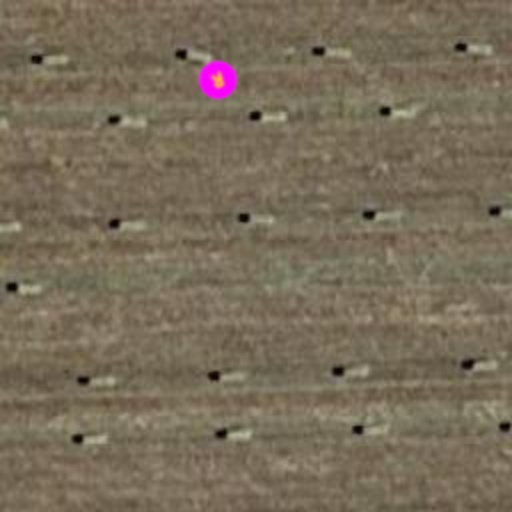circle: (192, 54, 244, 106)
